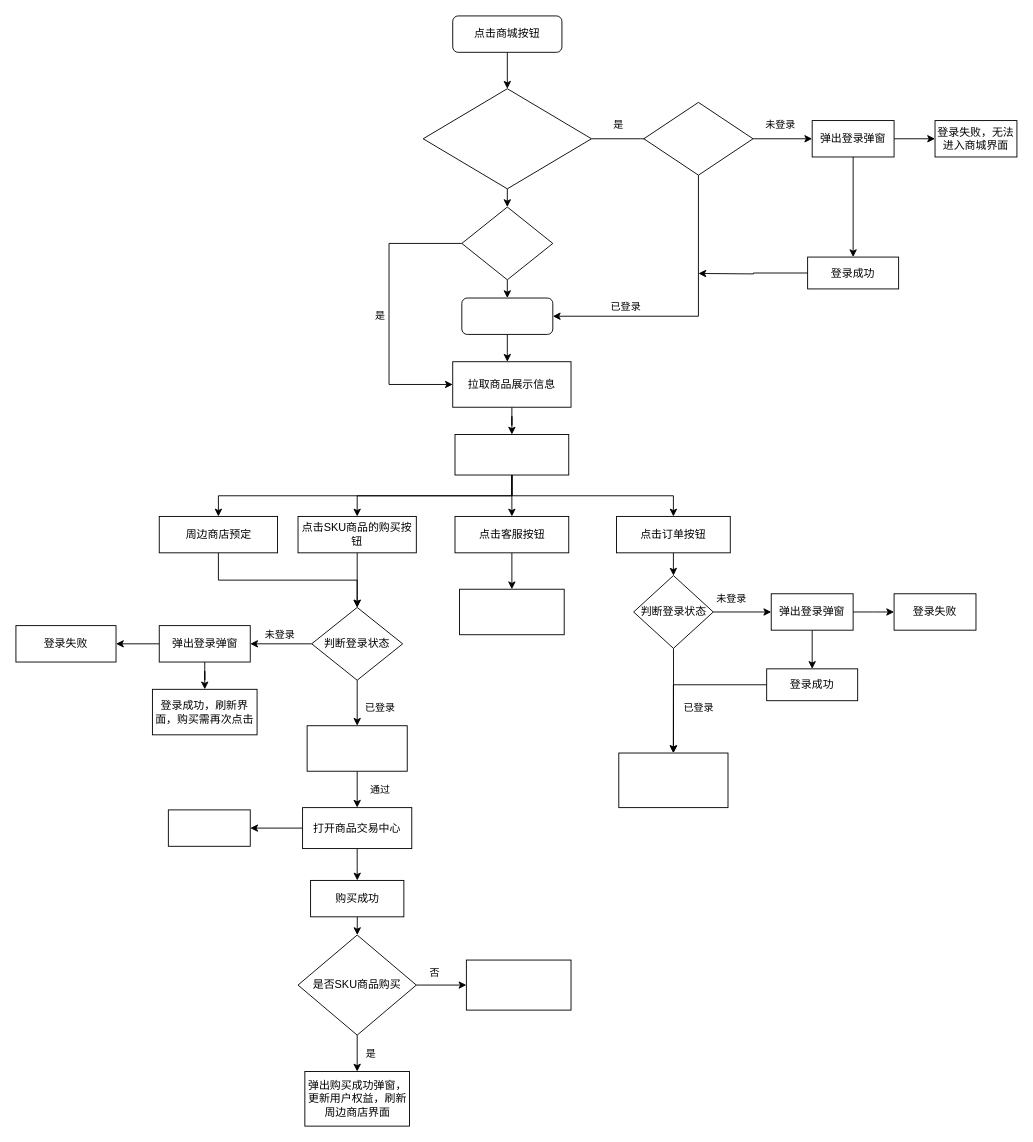
Some shapes in this 1033 by 1142 pixel diagram are drawn without their labels. Each missing label, with the centre of its shape:
"弹出购买成功弹窗，刷新周边商店界面" goes at point (518, 984).
"打开商品交易中心订单列表" goes at point (673, 780).
"打开客服html5界面" goes at point (511, 611).
"打开家长验证界面" goes at point (356, 748).
"拉取用户权益" goes at point (507, 315).
"支付失败" goes at point (208, 827).
"是否为游客" goes at point (507, 243).
"显示商城开通会员界面" goes at point (511, 454).
"检测登录状态" goes at point (698, 138).
"进入商城是否需要登录" goes at point (507, 138).
